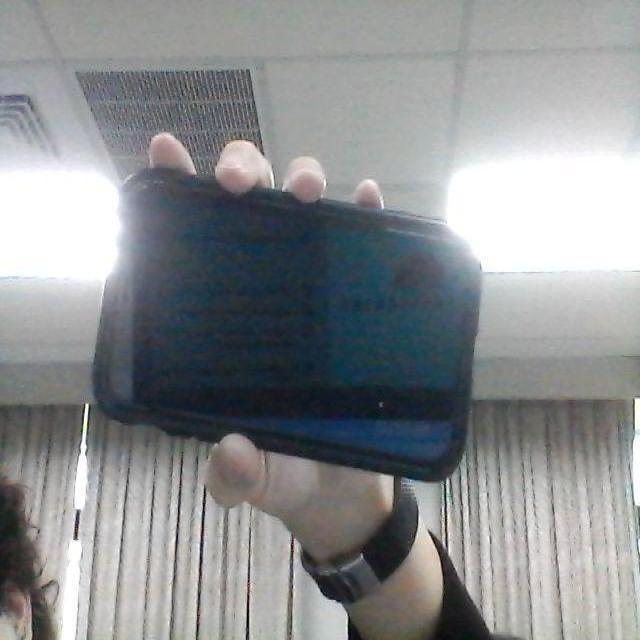smart phone: (77, 158, 528, 518)
